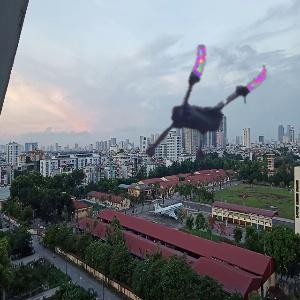drone: (126, 30, 275, 179)
